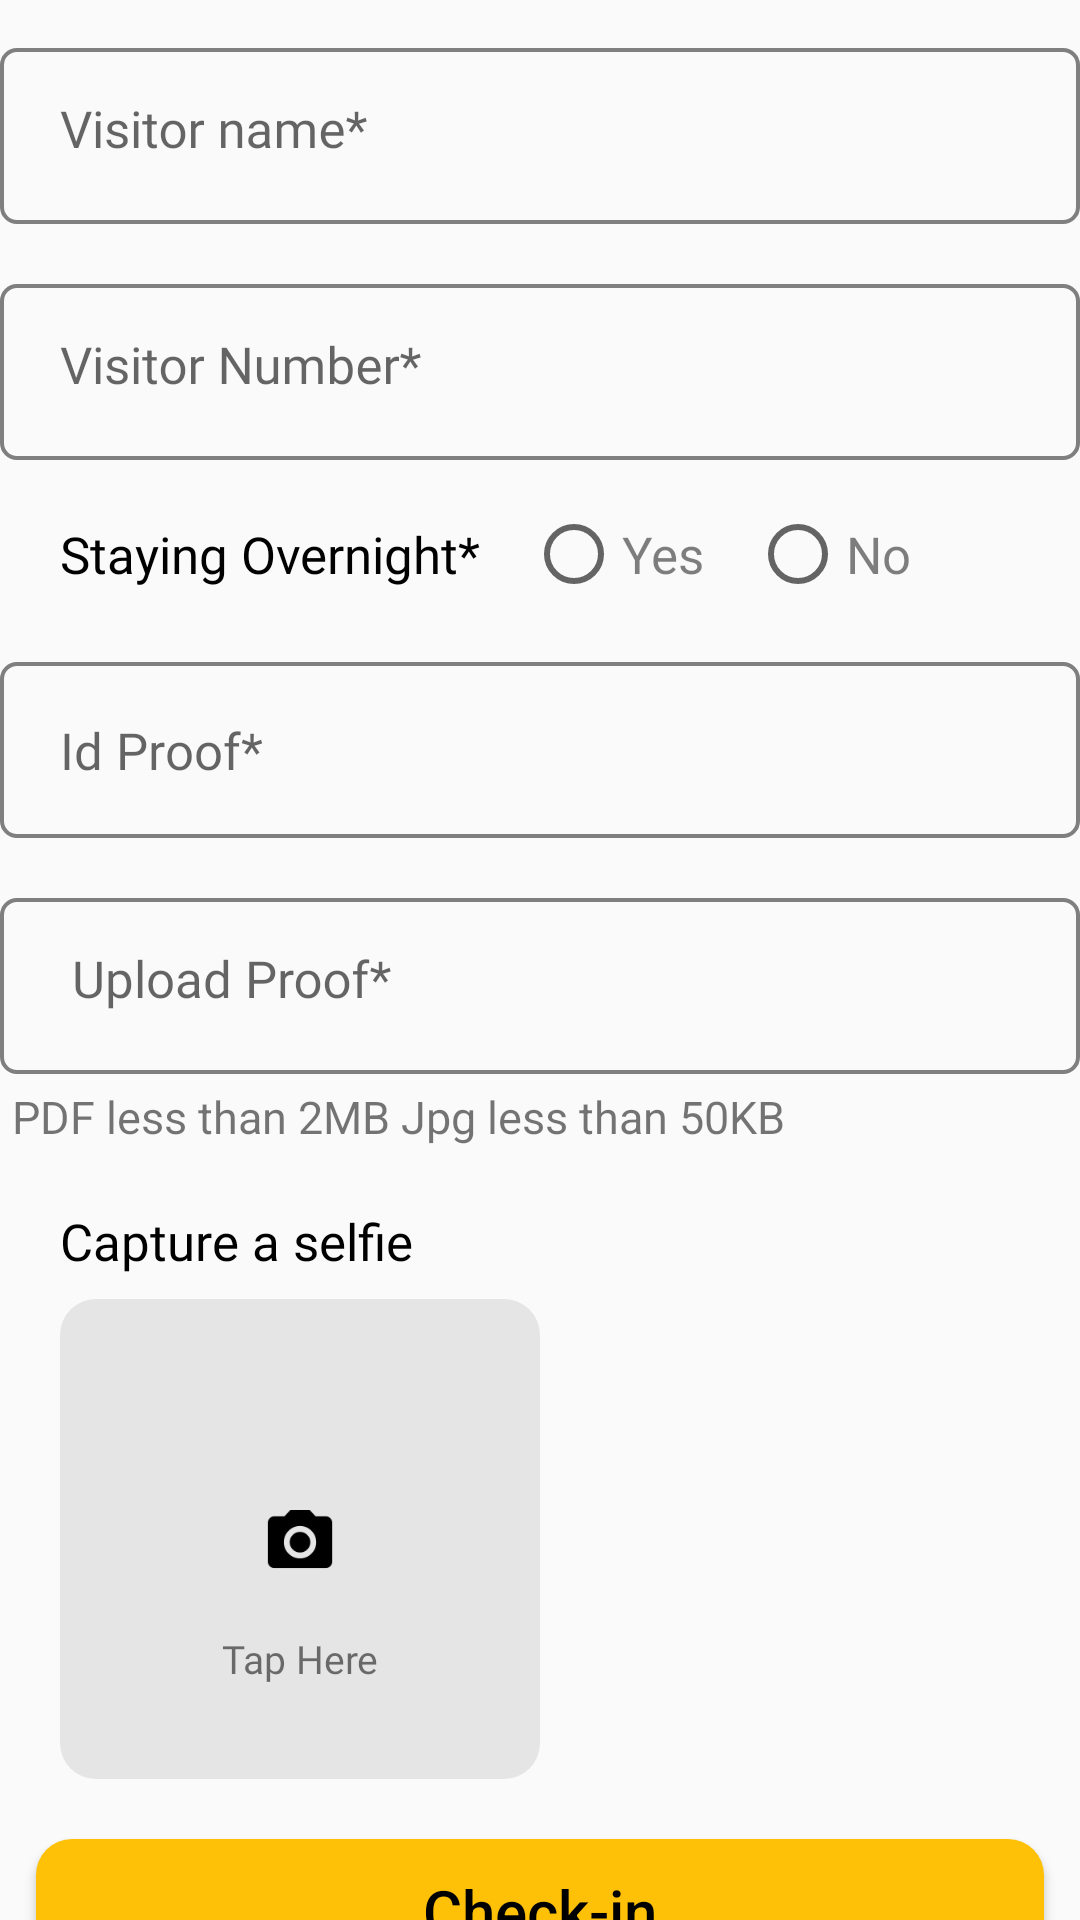

Icons on this 1080*1920 Android screen, each with the point to tap as point (x, y):
camera: point (300, 1539)
